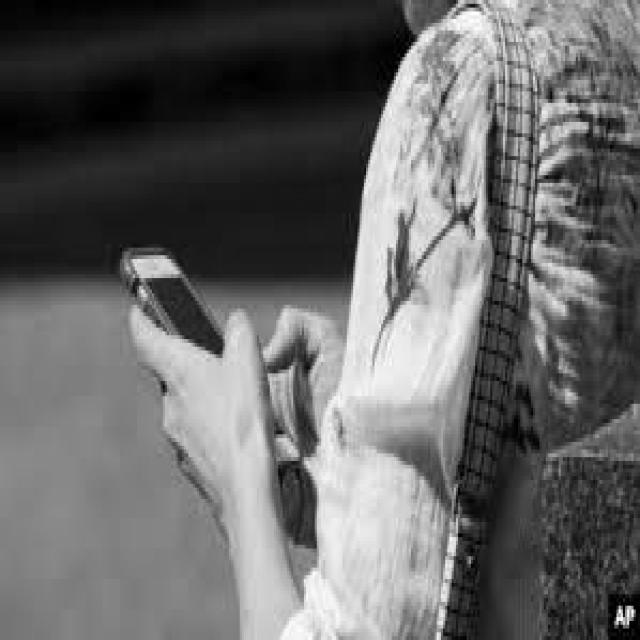No gun_phone: (121, 245, 302, 478)
